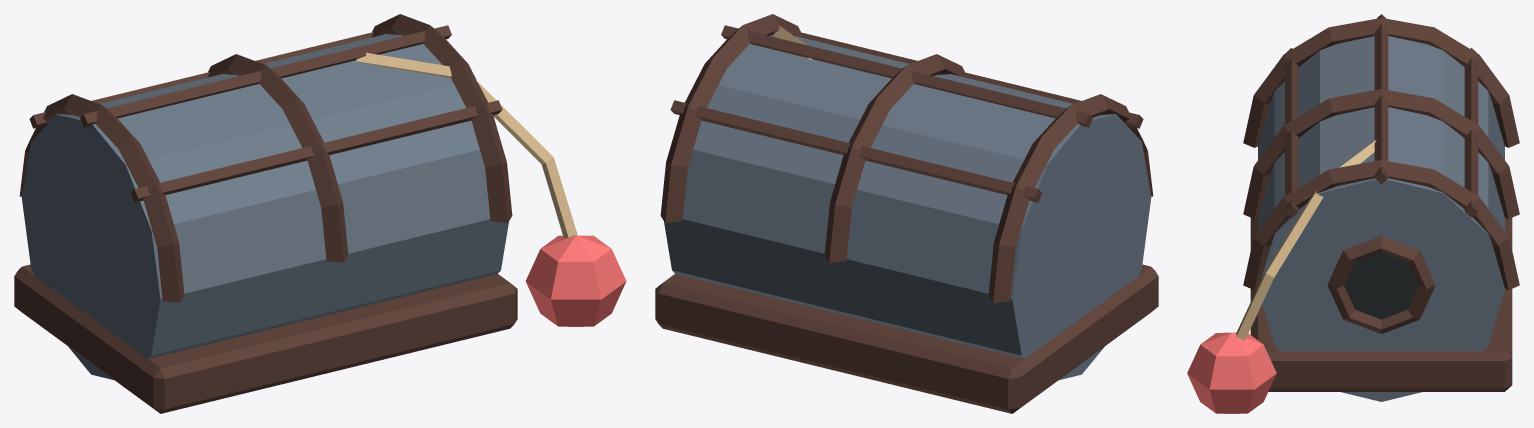
Rendered from lobsterPot.glb.
The picture shows the model from 3 angles, left to right: view 1: azimuth 30°, elevation 25°; view 2: azimuth 150°, elevation 25°; view 3: azimuth 270°, elevation 25°; orthographic projection. The views are drawn at different scales.
Visible parts, largest first — view 1: lobsterPot-m; view 2: lobsterPot-m; view 3: lobsterPot-m.
Boxes of the visible parts, x1=… form: lobsterPot-m: x1=14, y1=14, x2=626, y2=413; lobsterPot-m: x1=655, y1=14, x2=1158, y2=413; lobsterPot-m: x1=1187, y1=14, x2=1519, y2=413.
Bounding box in the file's own units: 1.22 × 0.7 × 0.89.
